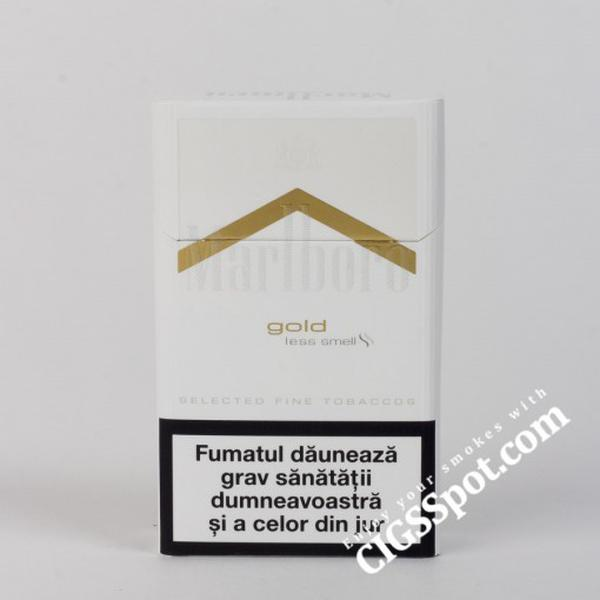marlboro_gold: (157, 101, 432, 557)
